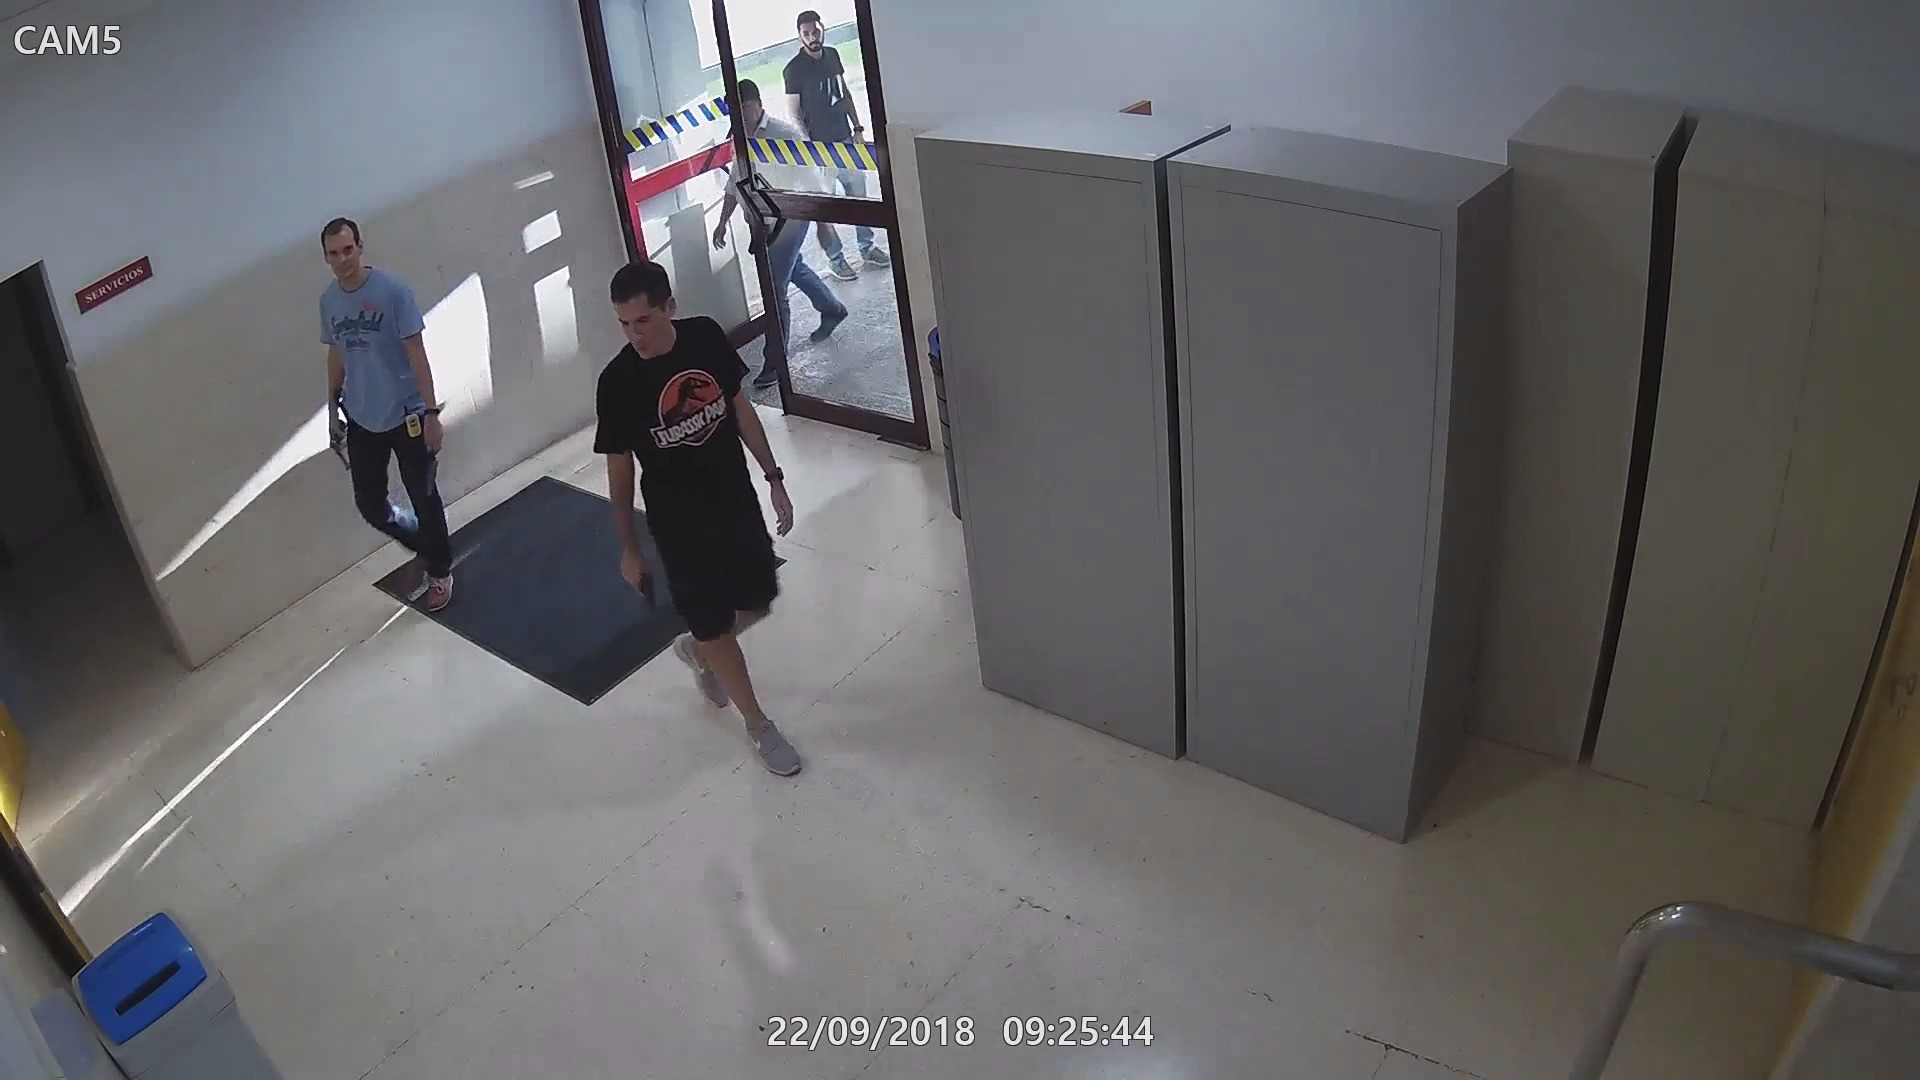Handgun: (632, 564, 694, 662), (314, 423, 343, 481)
Knife: (404, 425, 430, 527)
